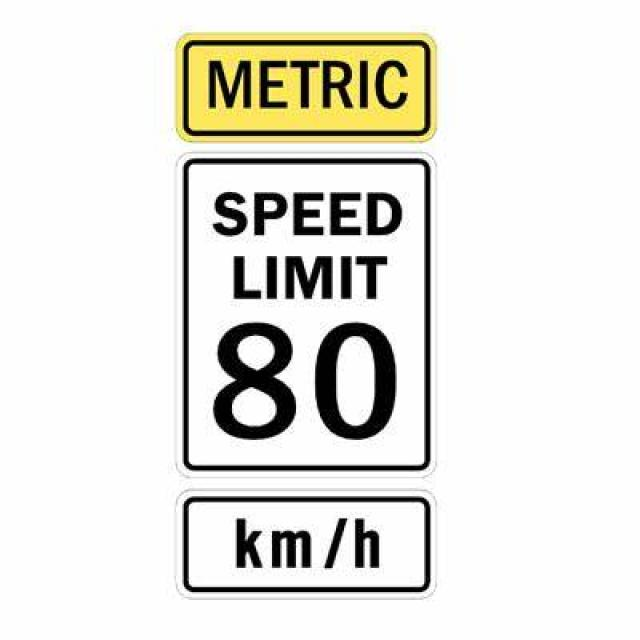speedLimit80: (172, 153, 433, 482)
